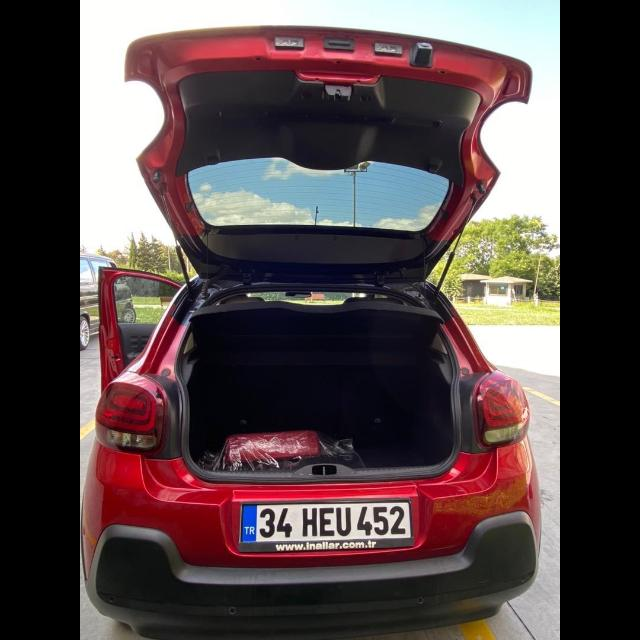Plaka: (241, 502, 409, 540)
